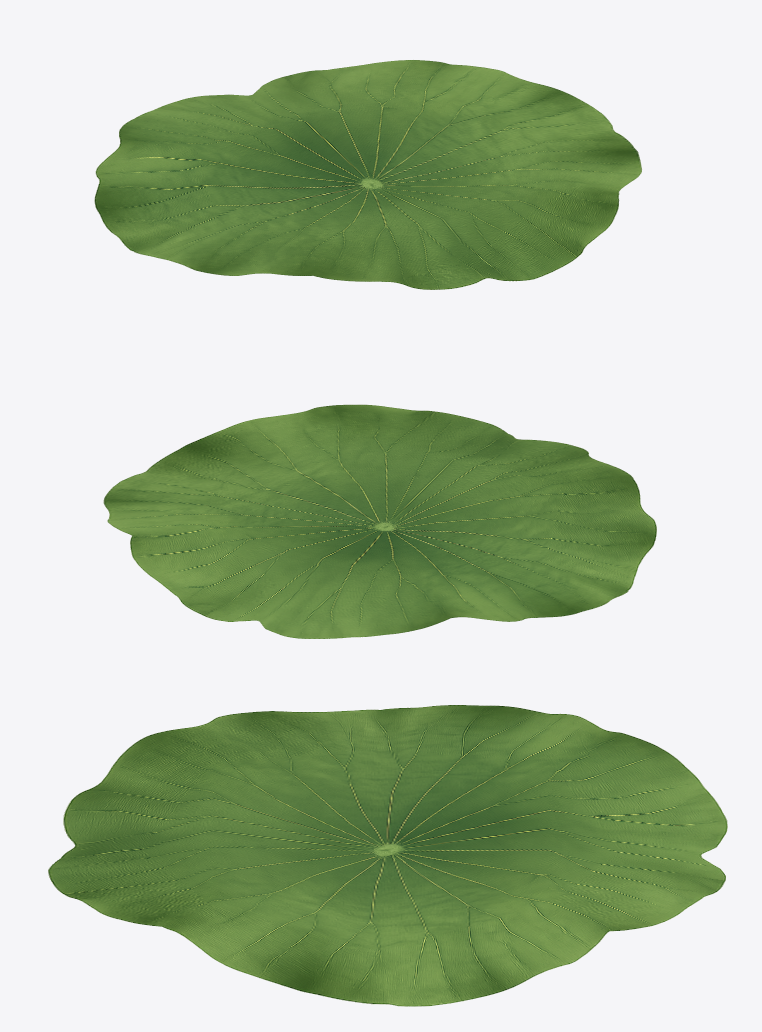
File: 7.Lotus_Leaf.fbx
3 renders of one model, top to bottom at view 1: azimuth 30°, elevation 25°; view 2: azimuth 150°, elevation 25°; view 3: azimuth 270°, elevation 25°, orthographic. The views are drawn at different scales.
Visible parts, largest first — view 1: Plane; view 2: Plane; view 3: Plane.
Part boxes in pixels (<box>): Plane: <box>94,60,641,289</box>; Plane: <box>103,404,656,638</box>; Plane: <box>48,705,727,1006</box>.
Size of the model in its own units: 175 by 7.6 by 175.
1 material, 1 textured.
